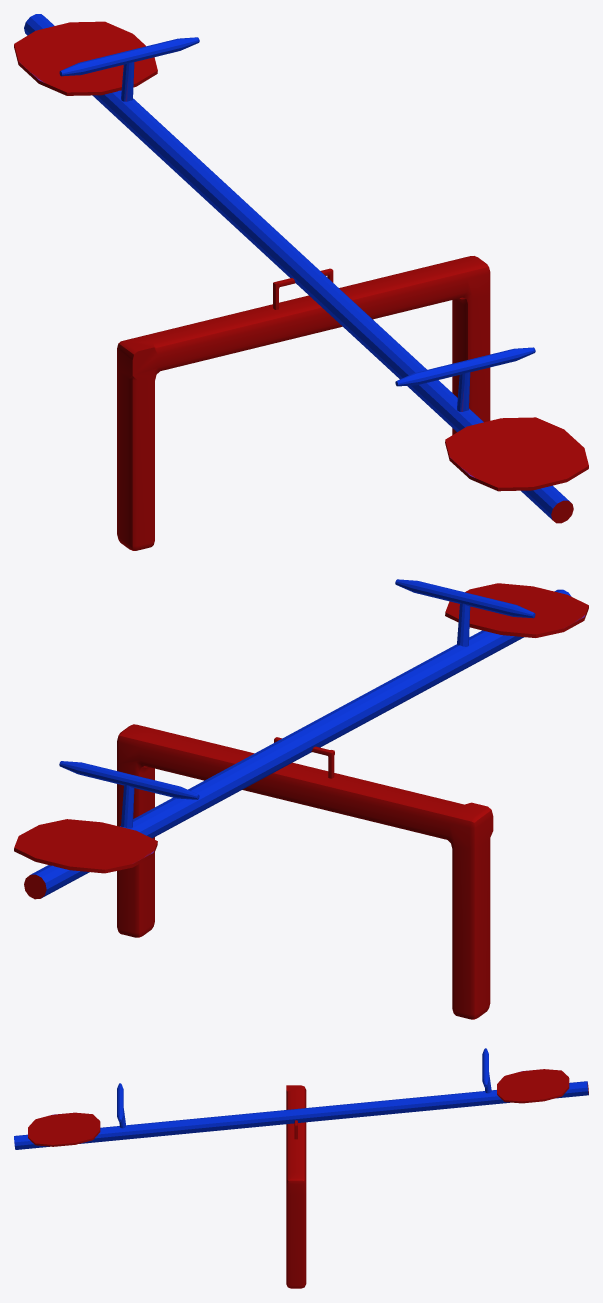
Rendered from empty seesaw.fbx.
The picture shows the model from 3 angles, top to bottom: view 1: azimuth 30°, elevation 25°; view 2: azimuth 150°, elevation 25°; view 3: azimuth 270°, elevation 25°; orthographic projection. The views are drawn at different scales.
Parts seen in each view (by area): view 1: seesaw2; view 2: seesaw2; view 3: seesaw2.
Part boxes in pixels (left/top/right/bottom): seesaw2: left=14, top=14, right=588, bottom=550; seesaw2: left=14, top=579, right=588, bottom=1019; seesaw2: left=14, top=1048, right=588, bottom=1288.
Size of the model in its own units: 1.87 by 1.62 by 4.75.
